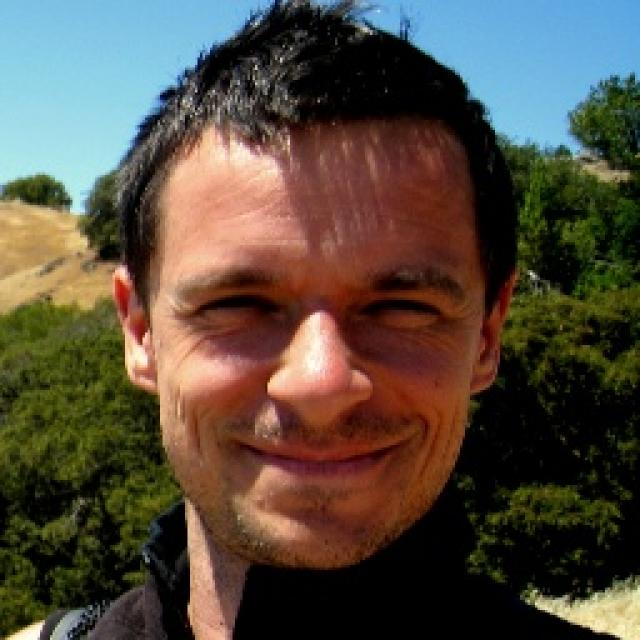earlobe: (468, 274, 516, 395), (113, 264, 157, 392)
